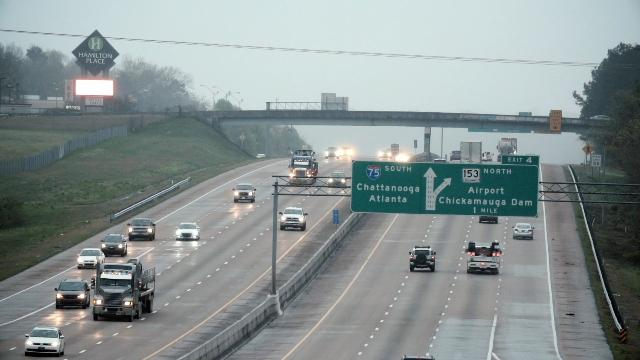car: (54, 278, 92, 312), (464, 241, 503, 274), (21, 326, 67, 353), (278, 204, 309, 232), (76, 243, 106, 269), (126, 216, 157, 241), (409, 246, 438, 272), (102, 232, 128, 258), (177, 219, 201, 244), (232, 182, 258, 204), (513, 222, 534, 241), (327, 171, 348, 186), (324, 146, 339, 158)
truck: (96, 259, 154, 321), (289, 147, 319, 183), (458, 139, 484, 170), (496, 140, 515, 161)
